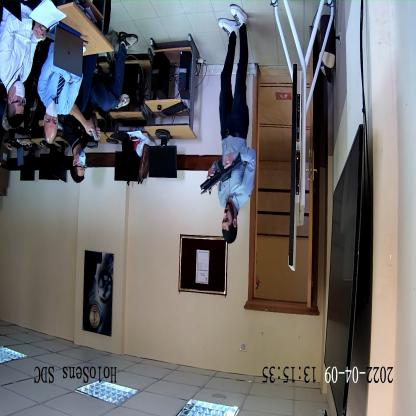handgun: (204, 150, 242, 195)
